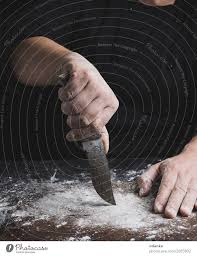knife: (54, 69, 120, 207)
